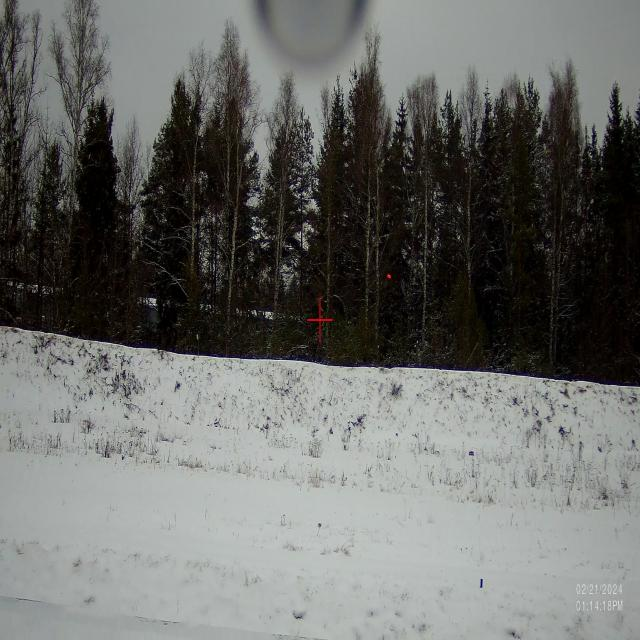entire: (383, 269, 395, 289)
